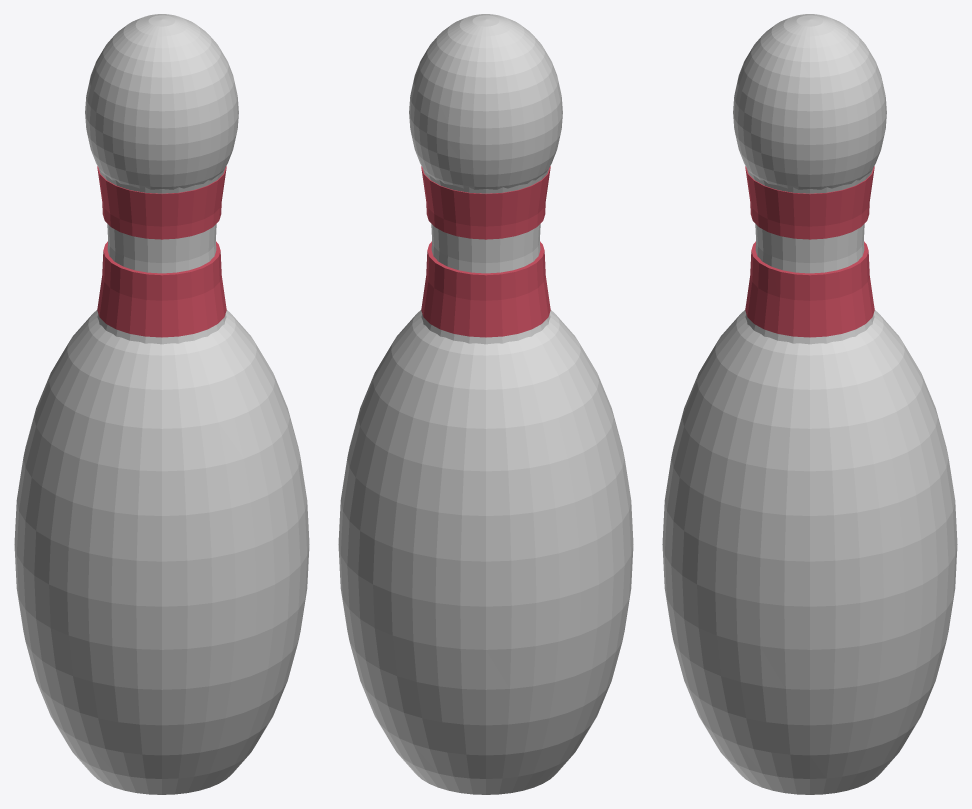
File: Copy of Bowling Pin.glb
The picture shows the model from 3 angles, left to right: view 1: azimuth 30°, elevation 25°; view 2: azimuth 150°, elevation 25°; view 3: azimuth 270°, elevation 25°; orthographic projection.
Parts seen in each view (by area): view 1: Mesh_Mesh_head_geo.001_lambert2SG.001; view 2: Mesh_Mesh_head_geo.001_lambert2SG.001; view 3: Mesh_Mesh_head_geo.001_lambert2SG.001.
Part boxes in pixels (bbox=[...]): Mesh_Mesh_head_geo.001_lambert2SG.001: bbox=[14, 14, 309, 794]; Mesh_Mesh_head_geo.001_lambert2SG.001: bbox=[338, 14, 633, 794]; Mesh_Mesh_head_geo.001_lambert2SG.001: bbox=[662, 14, 957, 794].
Size of the model in its own units: 23 by 64 by 23.
